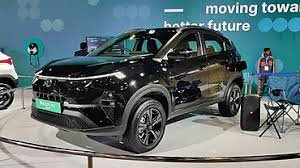Tata Nexon: (29, 26, 247, 155)
